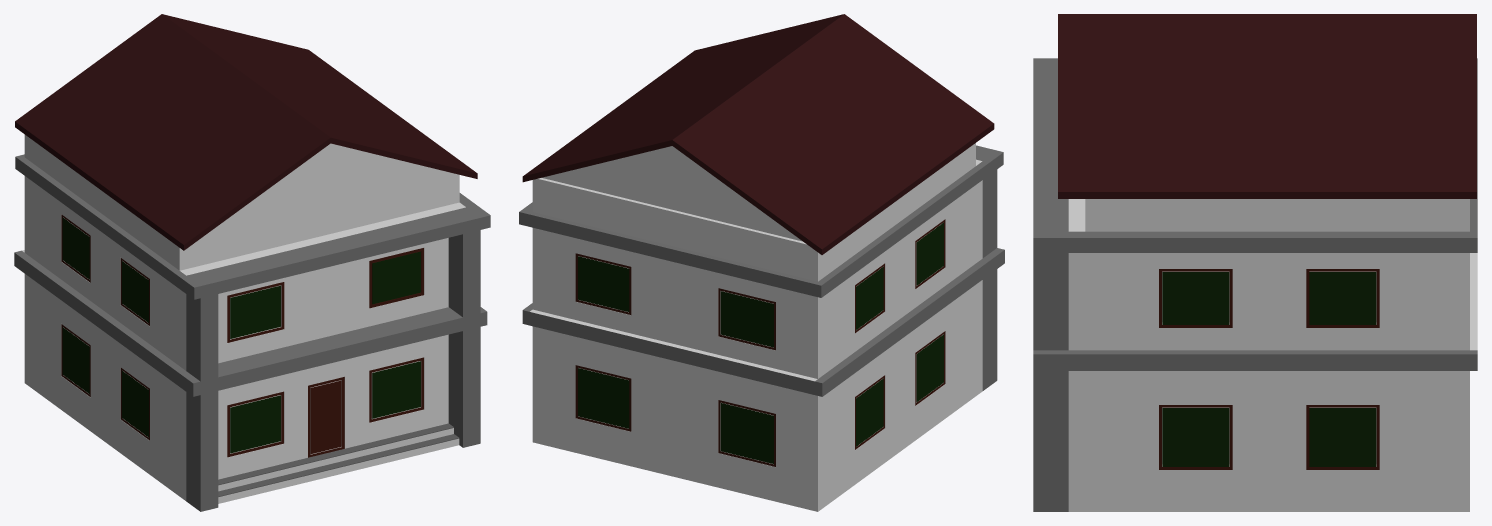
The model's file is HOUSE.glb.
3 views of the same model, side by side, from view 1: azimuth 30°, elevation 25°; view 2: azimuth 150°, elevation 25°; view 3: azimuth 270°, elevation 25° (orthographic). The views are drawn at different scales.
Visible parts, largest first — view 1: Plane; view 2: Plane; view 3: Plane.
Boxes of the visible parts, <box> form: Plane: <box>14,14,490,511</box>; Plane: <box>519,14,1004,511</box>; Plane: <box>1033,14,1477,511</box>.
Size of the model in its own units: 2.13 by 2.27 by 2.22.
